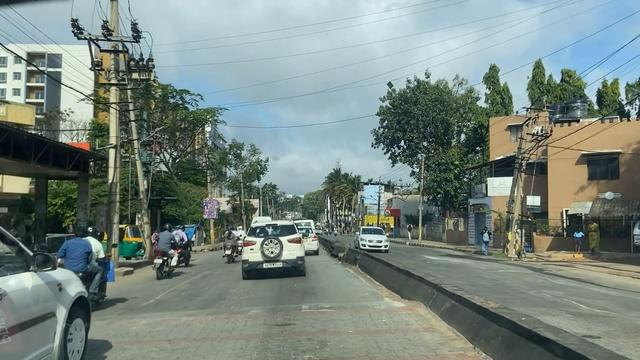LMV: (239, 222, 307, 277), (155, 219, 180, 275)
RoadDamages: (138, 274, 208, 309)
SpeedBump: (89, 308, 492, 359)
